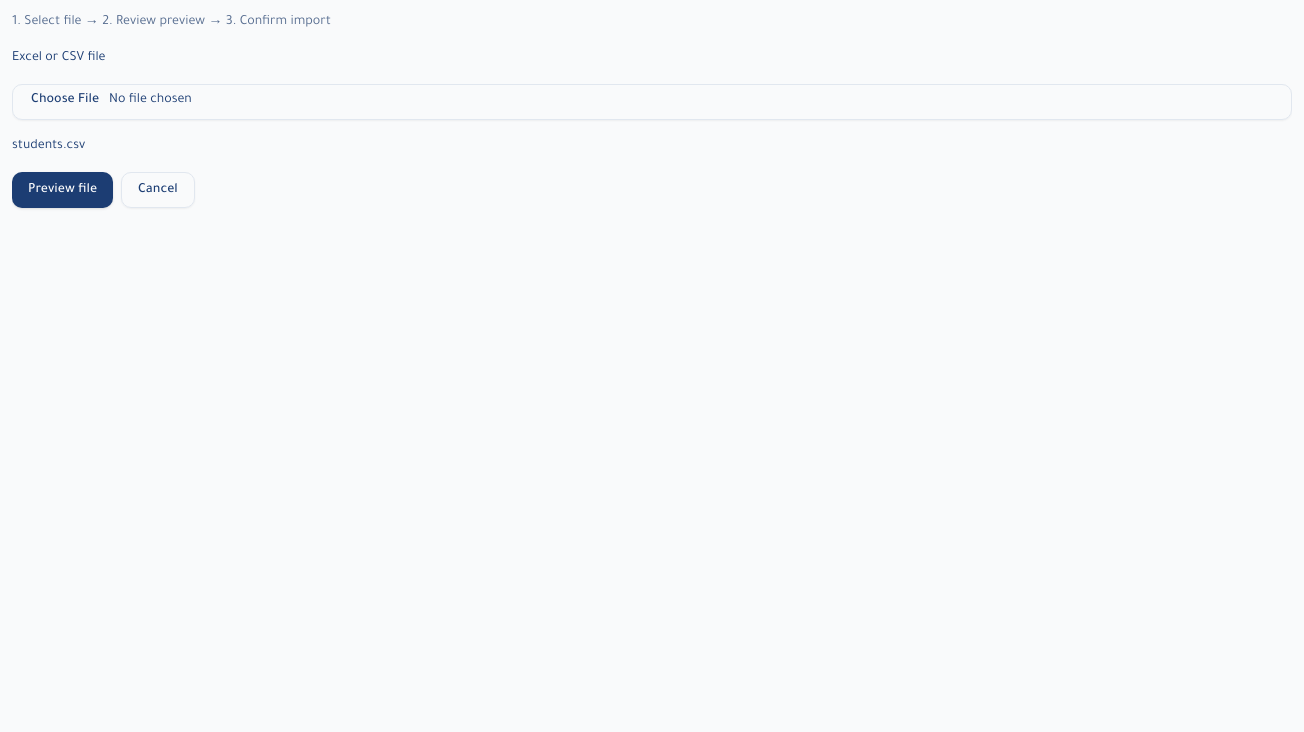
mandatory external import review › renders normalized backend student fields and localized relationship counts without internal keys
Earlier steps of the test are not shown.
Click the button "Preview file" at (63, 190), box [12,172,113,208]
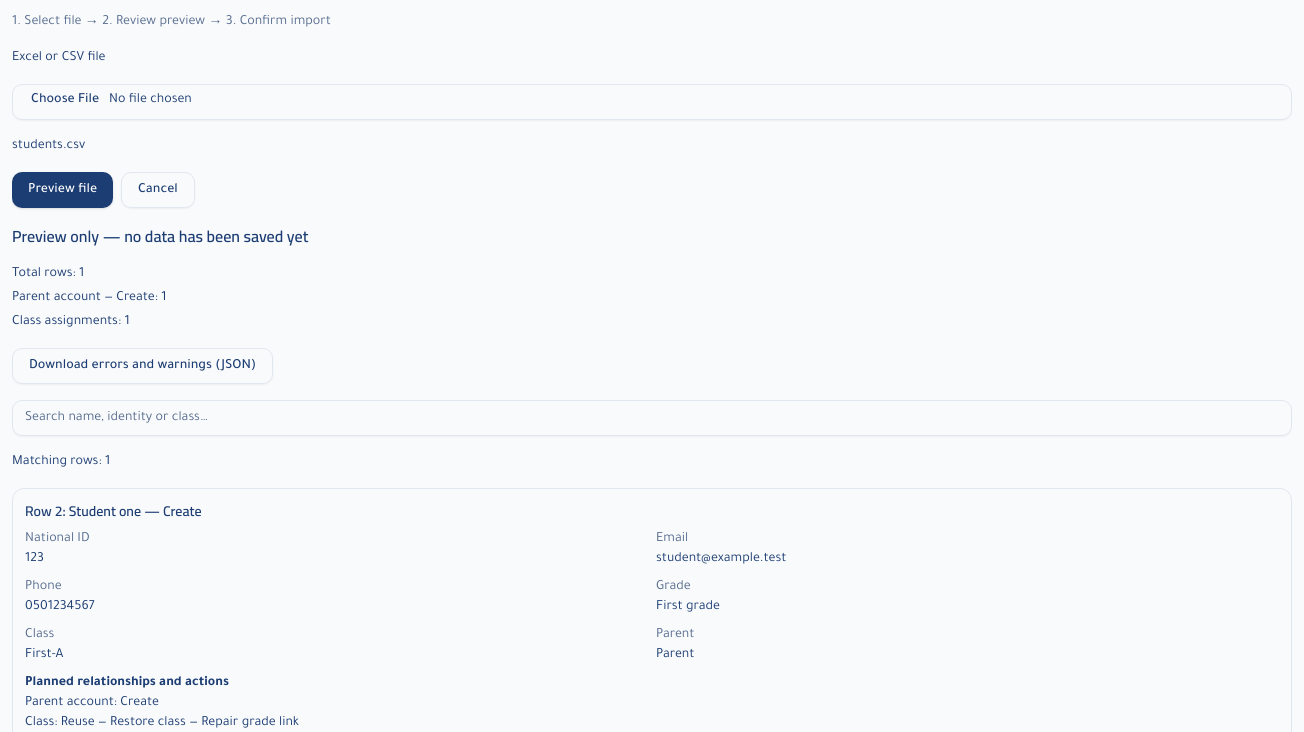
Check: the heading "Preview only — no data has been saved yet" is shown, box [12,221,308,251]
Check: the text "First grade" is shown, box [656,600,720,614]
Check: the text "First-A" is shown, box [25,648,63,662]
